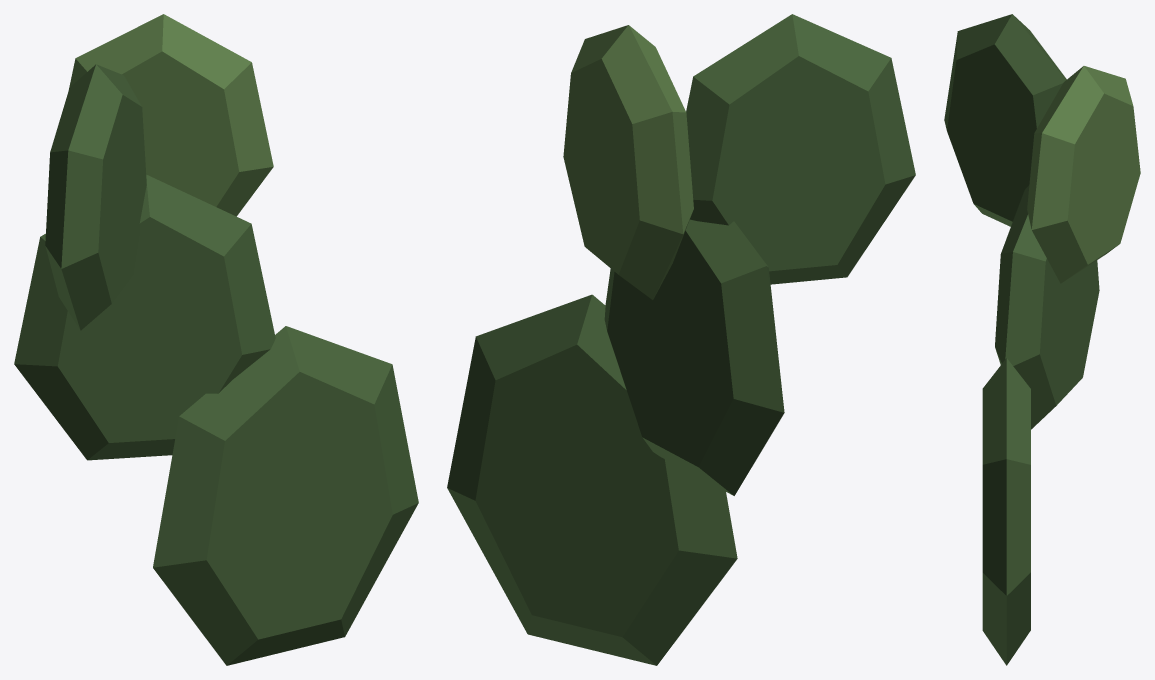
The model's file is SM_PricklyPear_A.fbx.
3 views of the same model, side by side, from view 1: azimuth 30°, elevation 25°; view 2: azimuth 150°, elevation 25°; view 3: azimuth 270°, elevation 25° (orthographic). The views are drawn at different scales.
Parts seen in each view (by area): view 1: PricklyPear_A; view 2: PricklyPear_A; view 3: PricklyPear_A.
Part boxes in pixels (x1,y1,x2,y2): PricklyPear_A: [14, 14, 418, 665]; PricklyPear_A: [447, 14, 915, 665]; PricklyPear_A: [944, 14, 1140, 665].
Bounding box in the file's own units: 98.03 × 48.77 × 150.
